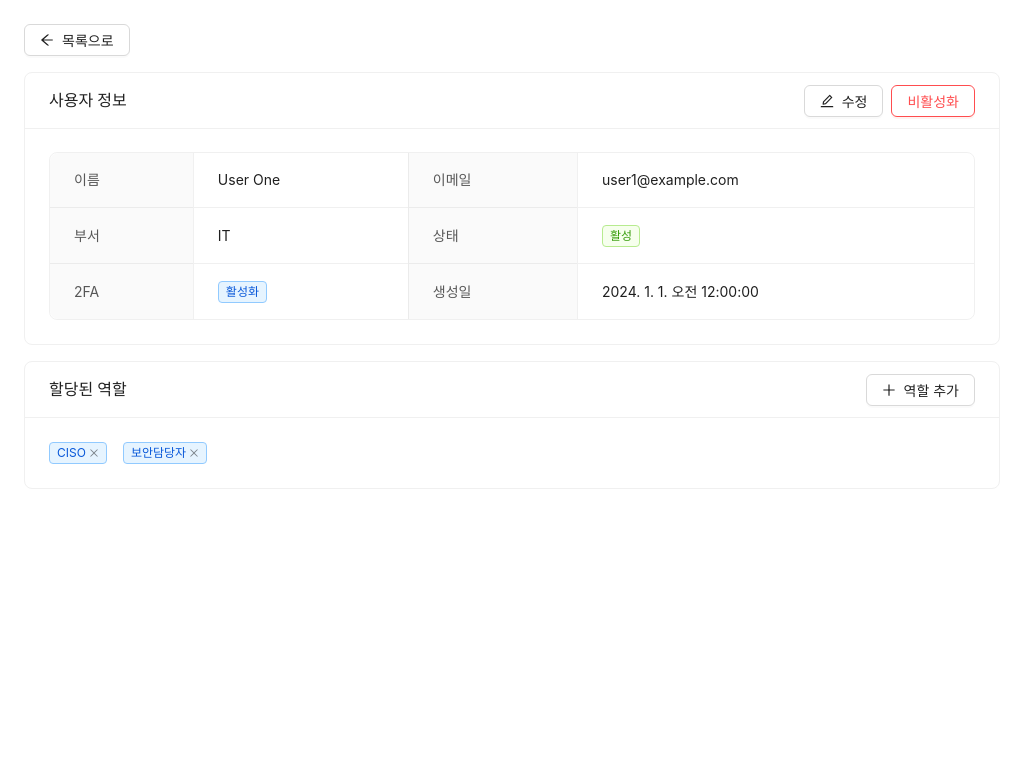
Test: UserDetail Component › 수정 버튼 클릭 시 모달이 열린다
Expected: the text "User One" is shown, 218,171 -> 280,188
수정 버튼 클릭
Click the button "수정": (844,100) 804,84 -> 884,116
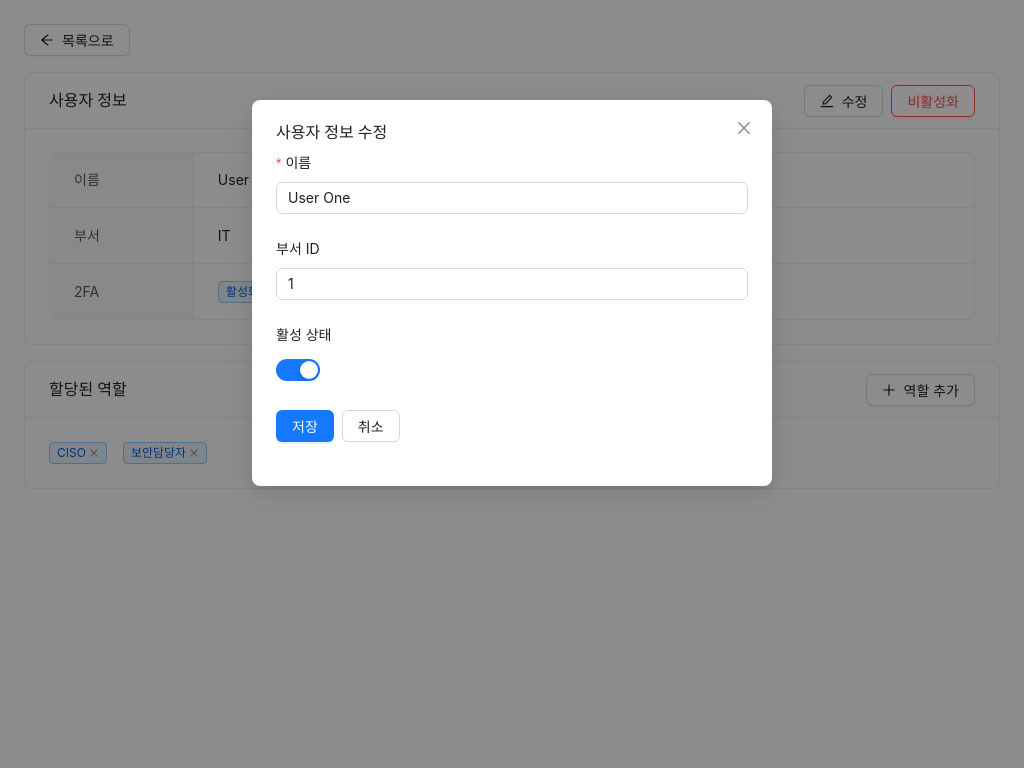
Expected: the text "사용자 정보 수정" is shown, 276,122 -> 387,142
